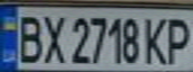1: (106, 13, 124, 64)
2: (66, 11, 90, 64)
7: (87, 12, 109, 64)
8: (121, 13, 142, 64)
B: (12, 11, 45, 64)
K: (139, 14, 172, 65)
P: (160, 14, 193, 65)
X: (39, 10, 69, 64)
